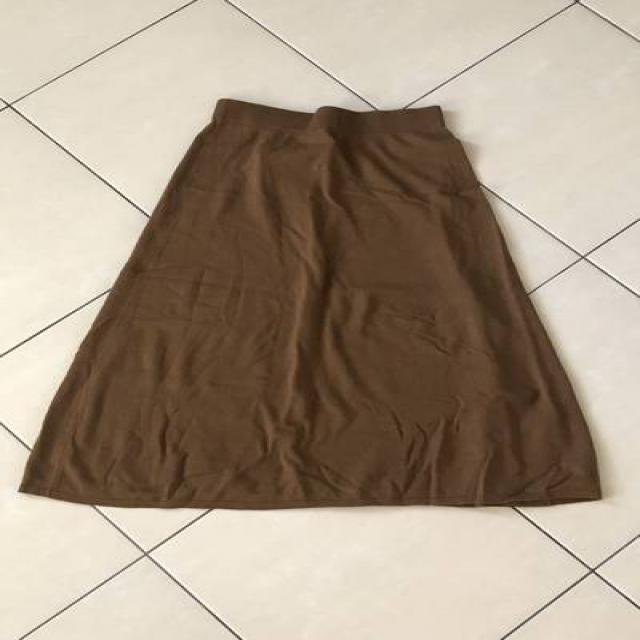Clothes -Biodegradable-: (15, 100, 598, 512)
